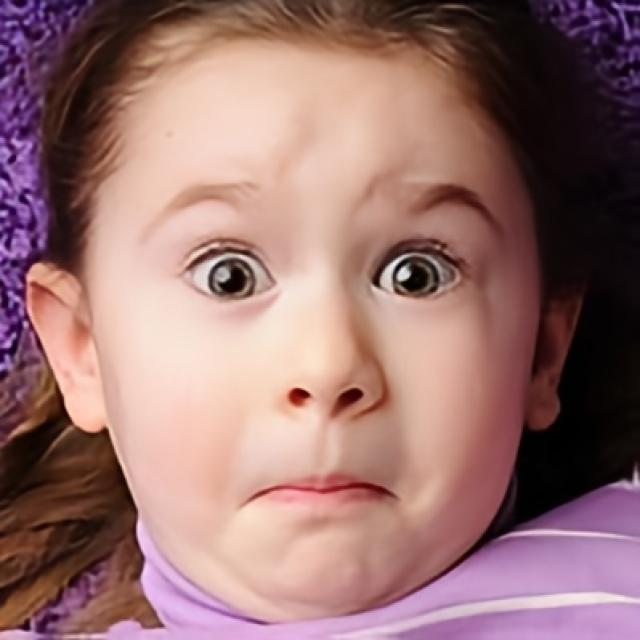fear: (81, 18, 536, 611)
